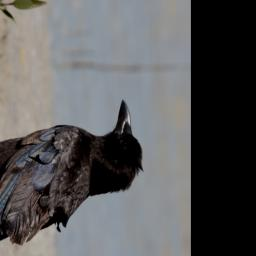Crow: (0, 96, 145, 256)
